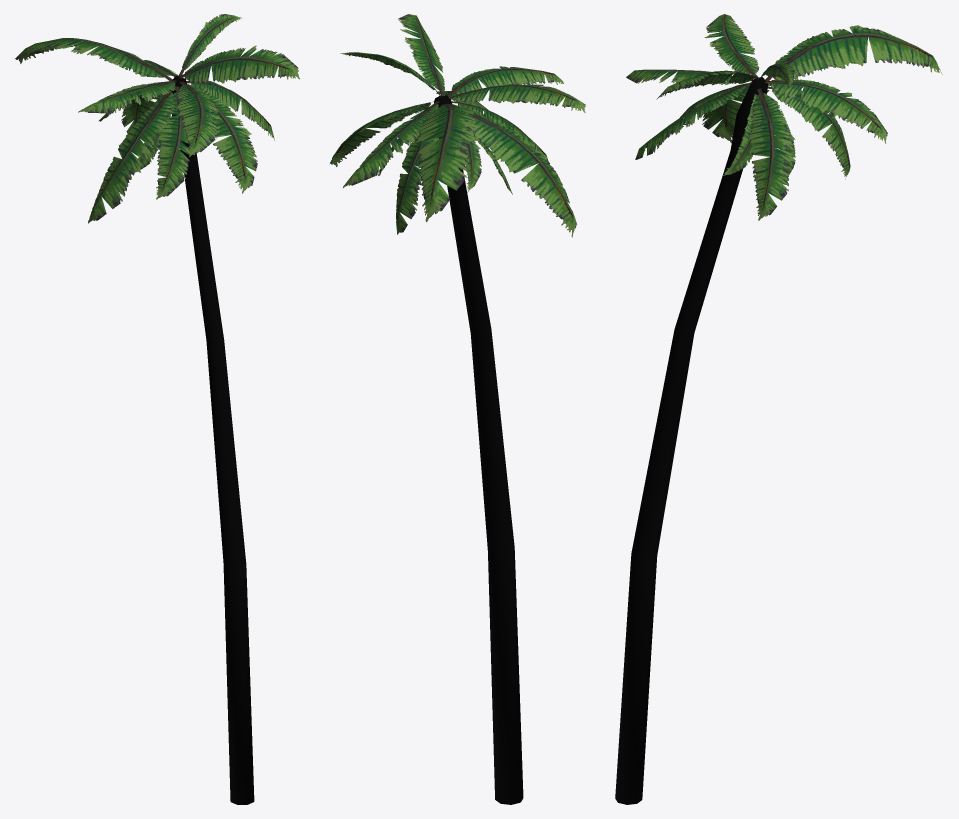
The model's file is tree_02b_ds.fbx.
3 views of the same model, side by side, from view 1: azimuth 30°, elevation 25°; view 2: azimuth 150°, elevation 25°; view 3: azimuth 270°, elevation 25° (orthographic). The views are drawn at different scales.
Parts seen in each view (by area): view 1: tree_02b_ds; view 2: tree_02b_ds; view 3: tree_02b_ds.
Part boxes in pixels (x1,y1,x2,y2): tree_02b_ds: [15, 14, 299, 804]; tree_02b_ds: [330, 14, 585, 804]; tree_02b_ds: [615, 14, 942, 804].
Size of the model in its own units: 5.37 by 17.19 by 6.77.
